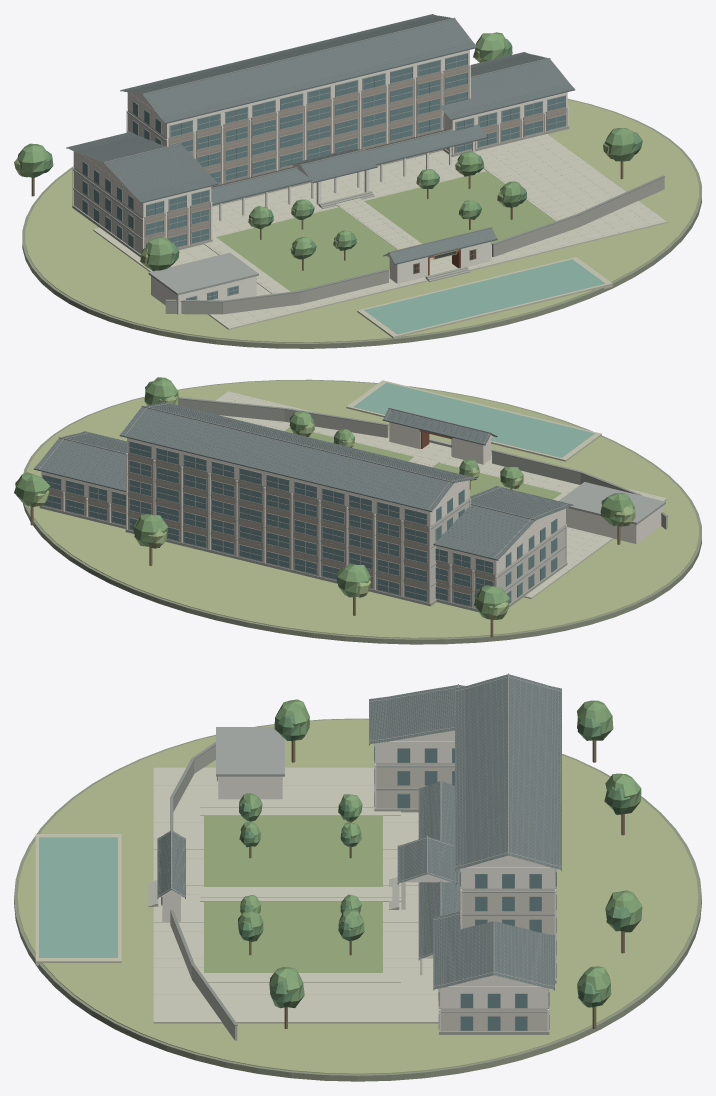
The model's file is disheng.glb.
3 views of the same model, one above another, from view 1: azimuth 30°, elevation 25°; view 2: azimuth 150°, elevation 25°; view 3: azimuth 270°, elevation 25° (orthographic). The views are drawn at different scales.
Visible parts, largest first — view 1: roofs_roof, landscape_grasslight, landscape_paving, openings_glass, landscape_grass, roofs_tile, architecture_white, architecture_panel, openings_trim, landscape_water, vegetation_leaf, landscape_earth (+11 smaller); view 2: landscape_grasslight, roofs_roof, openings_glass, architecture_panel, architecture_white, roofs_tile, openings_trim, landscape_earth, landscape_water, vegetation_leaf, landscape_paving, architecture_hotel (+9 smaller); view 3: landscape_grasslight, roofs_roof, landscape_paving, roofs_tile, landscape_grass, landscape_water, architecture_white, landscape_earth, vegetation_leaf, architecture_hotel, vegetation_leafdark, openings_glass (+10 smaller).
Part boxes in pixels (box(x1,y1,x2,y2)): roofs_roof: box(66, 14, 575, 264); landscape_grasslight: box(25, 99, 698, 342); landscape_paving: box(93, 134, 667, 329); openings_glass: box(82, 53, 565, 300); landscape_grass: box(216, 171, 555, 291); roofs_tile: box(68, 14, 574, 263); architecture_white: box(72, 50, 568, 314); architecture_panel: box(144, 65, 566, 247); openings_trim: box(82, 53, 566, 300); landscape_water: box(364, 259, 605, 334); vegetation_leaf: box(17, 32, 635, 271); landscape_earth: box(22, 98, 701, 348); landscape_grasslight: box(26, 380, 698, 638); roofs_roof: box(33, 402, 573, 560); openings_glass: box(43, 441, 557, 606); architecture_panel: box(45, 453, 494, 608); architecture_white: box(41, 422, 663, 608); roofs_tile: box(34, 402, 572, 559); openings_trim: box(42, 441, 556, 608); landscape_earth: box(23, 379, 701, 644); landscape_water: box(353, 382, 594, 457); vegetation_leaf: box(16, 377, 635, 619); landscape_paving: box(215, 391, 667, 598); architecture_hotel: box(62, 452, 565, 607); landscape_grasslight: box(17, 719, 698, 1074); roofs_roof: box(157, 674, 561, 990); landscape_paving: box(153, 767, 438, 1023); roofs_tile: box(158, 674, 561, 989); landscape_grass: box(204, 815, 382, 972); landscape_water: box(39, 837, 117, 957); architecture_white: box(161, 730, 556, 1031); landscape_earth: box(14, 718, 701, 1081); vegetation_leaf: box(238, 699, 642, 1008); architecture_hotel: box(376, 763, 554, 1031); vegetation_leafdark: box(239, 715, 631, 1007); openings_glass: box(217, 744, 556, 1030).
Bounding box in the file's own units: 118 × 21.39 × 96.
